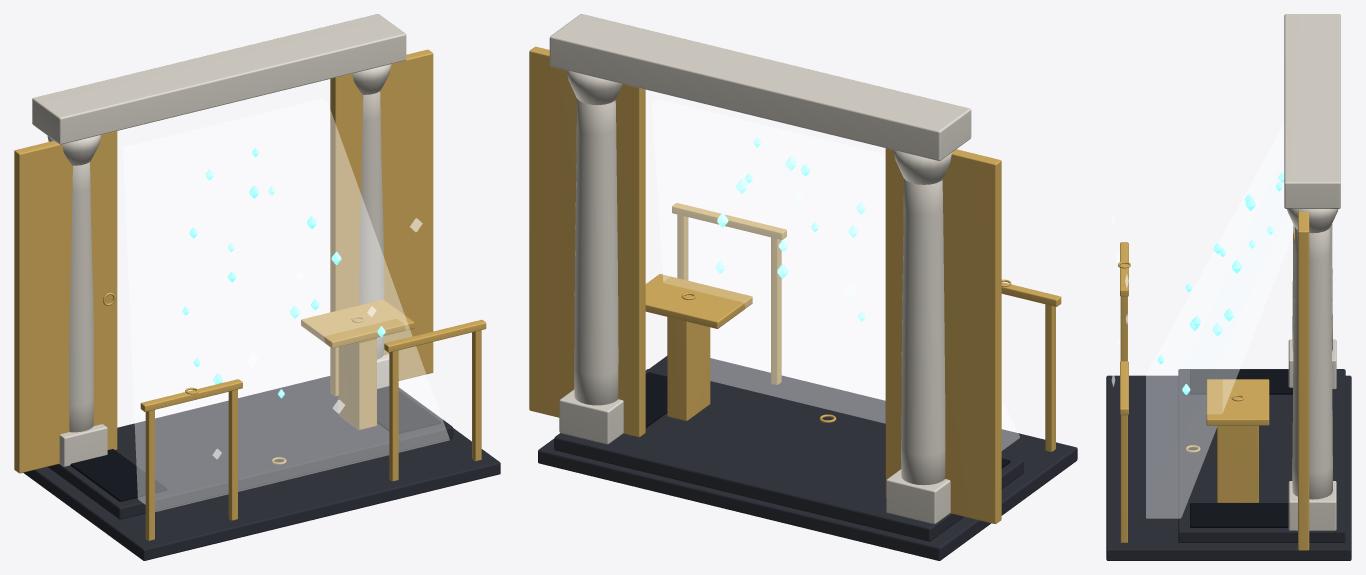
The model's file is webtoon-bokeh-mana-ember-halo-f56-v22.glb.
The picture shows the model from 3 angles, left to right: view 1: azimuth 30°, elevation 25°; view 2: azimuth 150°, elevation 25°; view 3: azimuth 270°, elevation 25°; orthographic projection. The views are drawn at different scales.
Parts seen in each view (by area): view 1: Volumetric_V22Beat3_F56_GodRaySlit, Articulated_V22Beat3_F56_DoorsAndIkRig, V22Beat3_F56_DatumDeck, V22Beat3_F56_PortalColonnade, ShadowDrift_V22Beat3_F56_UmbraMask, Atmospheric_V22Beat3_F56_MidMotes; view 2: Articulated_V22Beat3_F56_DoorsAndIkRig, V22Beat3_F56_PortalColonnade, Volumetric_V22Beat3_F56_GodRaySlit, V22Beat3_F56_DatumDeck, ShadowDrift_V22Beat3_F56_UmbraMask, Atmospheric_V22Beat3_F56_MidMotes; view 3: V22Beat3_F56_DatumDeck, Volumetric_V22Beat3_F56_GodRaySlit, V22Beat3_F56_PortalColonnade, Articulated_V22Beat3_F56_DoorsAndIkRig, ShadowDrift_V22Beat3_F56_UmbraMask, Atmospheric_V22Beat3_F56_MidMotes.
Boxes of the visible parts, left/top/right/bottom form: Volumetric_V22Beat3_F56_GodRaySlit: left=123, top=99, right=449, bottom=511; Articulated_V22Beat3_F56_DoorsAndIkRig: left=14, top=49, right=486, bottom=540; V22Beat3_F56_DatumDeck: left=23, top=376, right=500, bottom=560; V22Beat3_F56_PortalColonnade: left=32, top=14, right=406, bottom=466; ShadowDrift_V22Beat3_F56_UmbraMask: left=70, top=386, right=440, bottom=501; Atmospheric_V22Beat3_F56_MidMotes: left=182, top=148, right=385, bottom=398; Articulated_V22Beat3_F56_DoorsAndIkRig: left=529, top=46, right=1061, bottom=523; V22Beat3_F56_PortalColonnade: left=549, top=14, right=971, bottom=523; Volumetric_V22Beat3_F56_GodRaySlit: left=652, top=99, right=1019, bottom=450; V22Beat3_F56_DatumDeck: left=538, top=356, right=1077, bottom=560; ShadowDrift_V22Beat3_F56_UmbraMask: left=645, top=372, right=1010, bottom=468; Atmospheric_V22Beat3_F56_MidMotes: left=716, top=137, right=865, bottom=321; V22Beat3_F56_DatumDeck: left=1106, top=369, right=1351, bottom=560; Volumetric_V22Beat3_F56_GodRaySlit: left=1146, top=124, right=1294, bottom=518; V22Beat3_F56_PortalColonnade: left=1284, top=14, right=1340, bottom=530; Articulated_V22Beat3_F56_DoorsAndIkRig: left=1118, top=211, right=1309, bottom=550; ShadowDrift_V22Beat3_F56_UmbraMask: left=1190, top=369, right=1292, bottom=527; Atmospheric_V22Beat3_F56_MidMotes: left=1157, top=172, right=1284, bottom=394.
Size of the model in its own units: 3.2 by 2.78 by 1.64.
